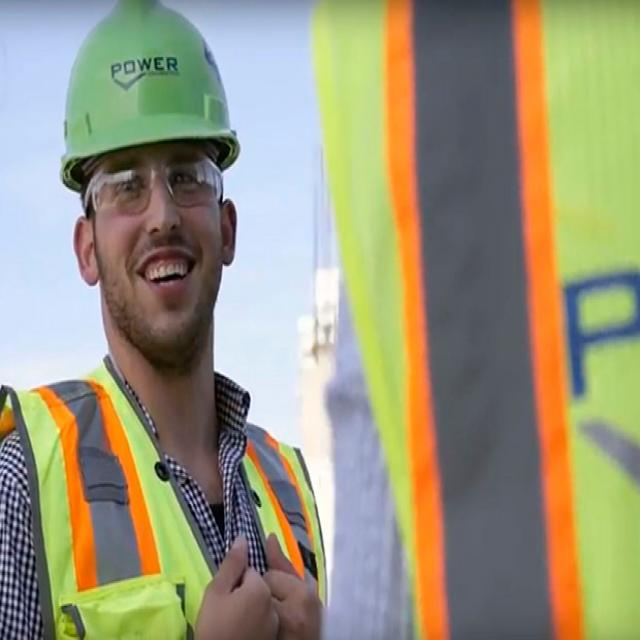Reflective-Jacket: (288, 0, 640, 637), (0, 362, 337, 634)
Safety-Helmet: (54, 3, 244, 186)
